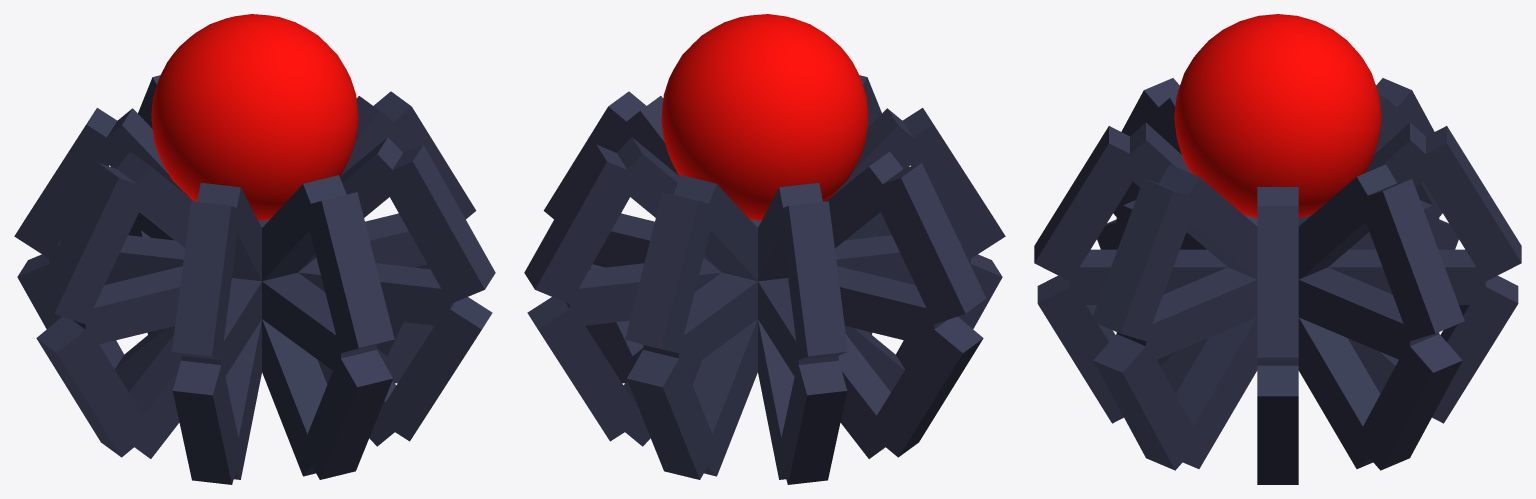
The model's file is Cool Object.fbx.
3 renders of one model, left to right at view 1: azimuth 30°, elevation 25°; view 2: azimuth 150°, elevation 25°; view 3: azimuth 270°, elevation 25°, orthographic.
Visible parts, largest first — view 1: Sphere, Cube__8__1, Cube__8_, Cube__8__6, Cube__8__3, Cube__1__1, Cube__9__2, Cube__9__7, Cube__1__4, Cube__9__5, Cube__9__4, Cube__6__7 (+17 smaller); view 2: Sphere, Cube__8__1, Cube__8__2, Cube__8__5, Cube__8__4, Cube__1__1, Cube__9_, Cube__9__7, Cube__9__6, Cube__9__3, Cube__6__7, Cube__1_ (+16 smaller); view 3: Sphere, Cube__8__5, Cube__8__6, Cube__6__3, Cube__6__4, Cube__1__4, Cube__8_, Cube__8__2, Cube__1__3, Cube__9__4, Cube__9__3, Cube__1_ (+15 smaller).
Boxes of the visible parts, x1,y1,x2,y2 form: Sphere: (151, 14, 358, 220); Cube__8__1: (33, 162, 146, 324); Cube__8_: (309, 192, 394, 353); Cube__8__6: (381, 144, 495, 303); Cube__8__3: (172, 201, 237, 359); Cube__1__1: (73, 213, 426, 347); Cube__9__2: (307, 350, 392, 479); Cube__9__7: (36, 316, 142, 457); Cube__1__4: (49, 235, 454, 327); Cube__9__5: (172, 360, 238, 484); Cube__9__4: (376, 297, 492, 441); Cube__6__7: (126, 96, 404, 458); Sphere: (661, 14, 868, 220); Cube__8__1: (880, 162, 986, 324); Cube__8__2: (625, 192, 715, 353); Cube__8__5: (524, 144, 633, 303); Cube__8__4: (781, 201, 847, 359); Cube__1__1: (593, 213, 946, 347); Cube__9_: (627, 350, 717, 479); Cube__9__7: (877, 316, 983, 457); Cube__9__6: (779, 360, 847, 484); Cube__9__3: (527, 297, 643, 441); Cube__6__7: (615, 96, 893, 458); Cube__1_: (643, 212, 886, 376); Sphere: (1174, 14, 1381, 218); Cube__8__5: (1358, 179, 1464, 340); Cube__8__6: (1091, 179, 1197, 340); Cube__6__3: (1149, 95, 1380, 468); Cube__6__4: (1175, 95, 1401, 468); Cube__1__4: (1116, 200, 1439, 364); Cube__8_: (1034, 126, 1132, 281); Cube__8__2: (1423, 126, 1521, 281); Cube__1__3: (1116, 200, 1438, 363); Cube__9__4: (1093, 334, 1192, 470); Cube__9__3: (1363, 334, 1462, 470); Cube__1_: (1070, 249, 1485, 304).
Size of the model in its own units: 117 by 106 by 117.
